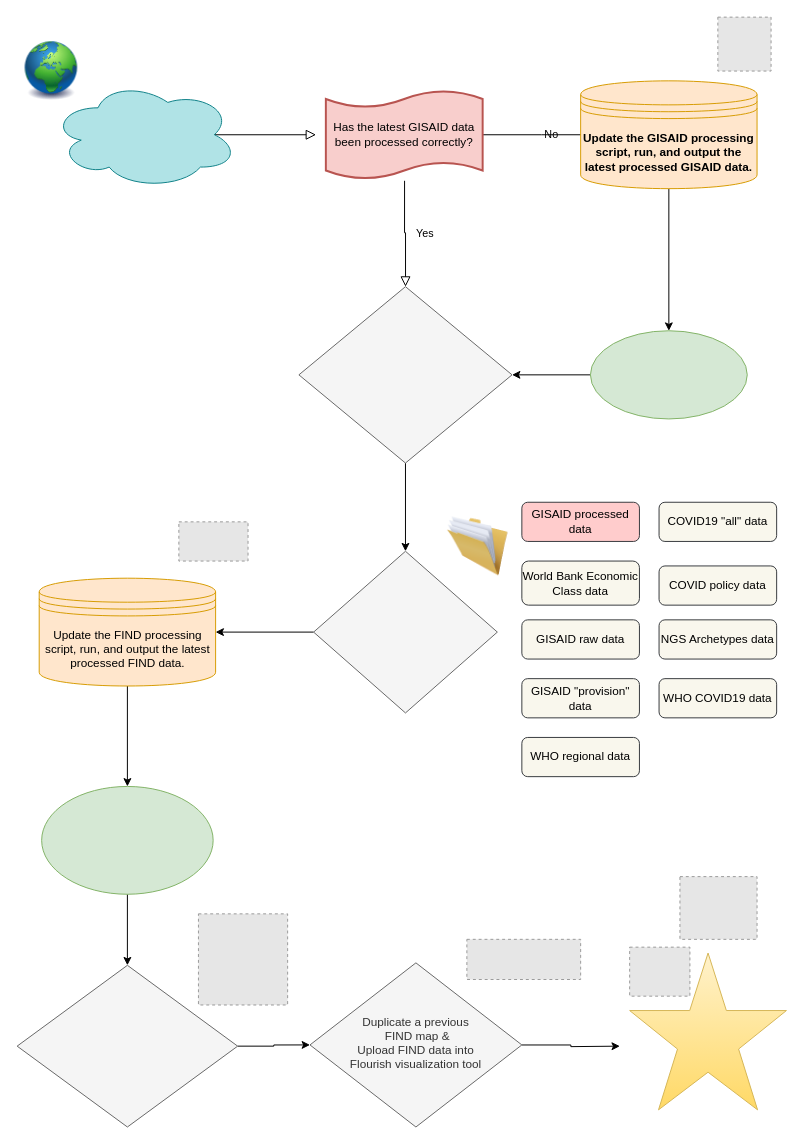
Image size: 804x1148. Some labels were removed from this diagram. Grey dashed boxes stand in for pictures. The shapes that lost their labels are listed below. From the top down, each one's box as (x1, y1, x2, y2) in pixels, then its label:
(50, 80, 238, 189): Update FIND map
(298, 286, 512, 463): Input the latest processed GISAID data into FIND map script
(589, 330, 747, 419): Output Clean GISAID data
(313, 550, 497, 713): Input the following necessary datasets into the FIND map script
(41, 785, 213, 894): Output Clean FIND data
(16, 964, 238, 1127): Copy & Paste shapefiles for each country geometry in the FIND data
(629, 952, 786, 1110): Create FIND Updated Map
